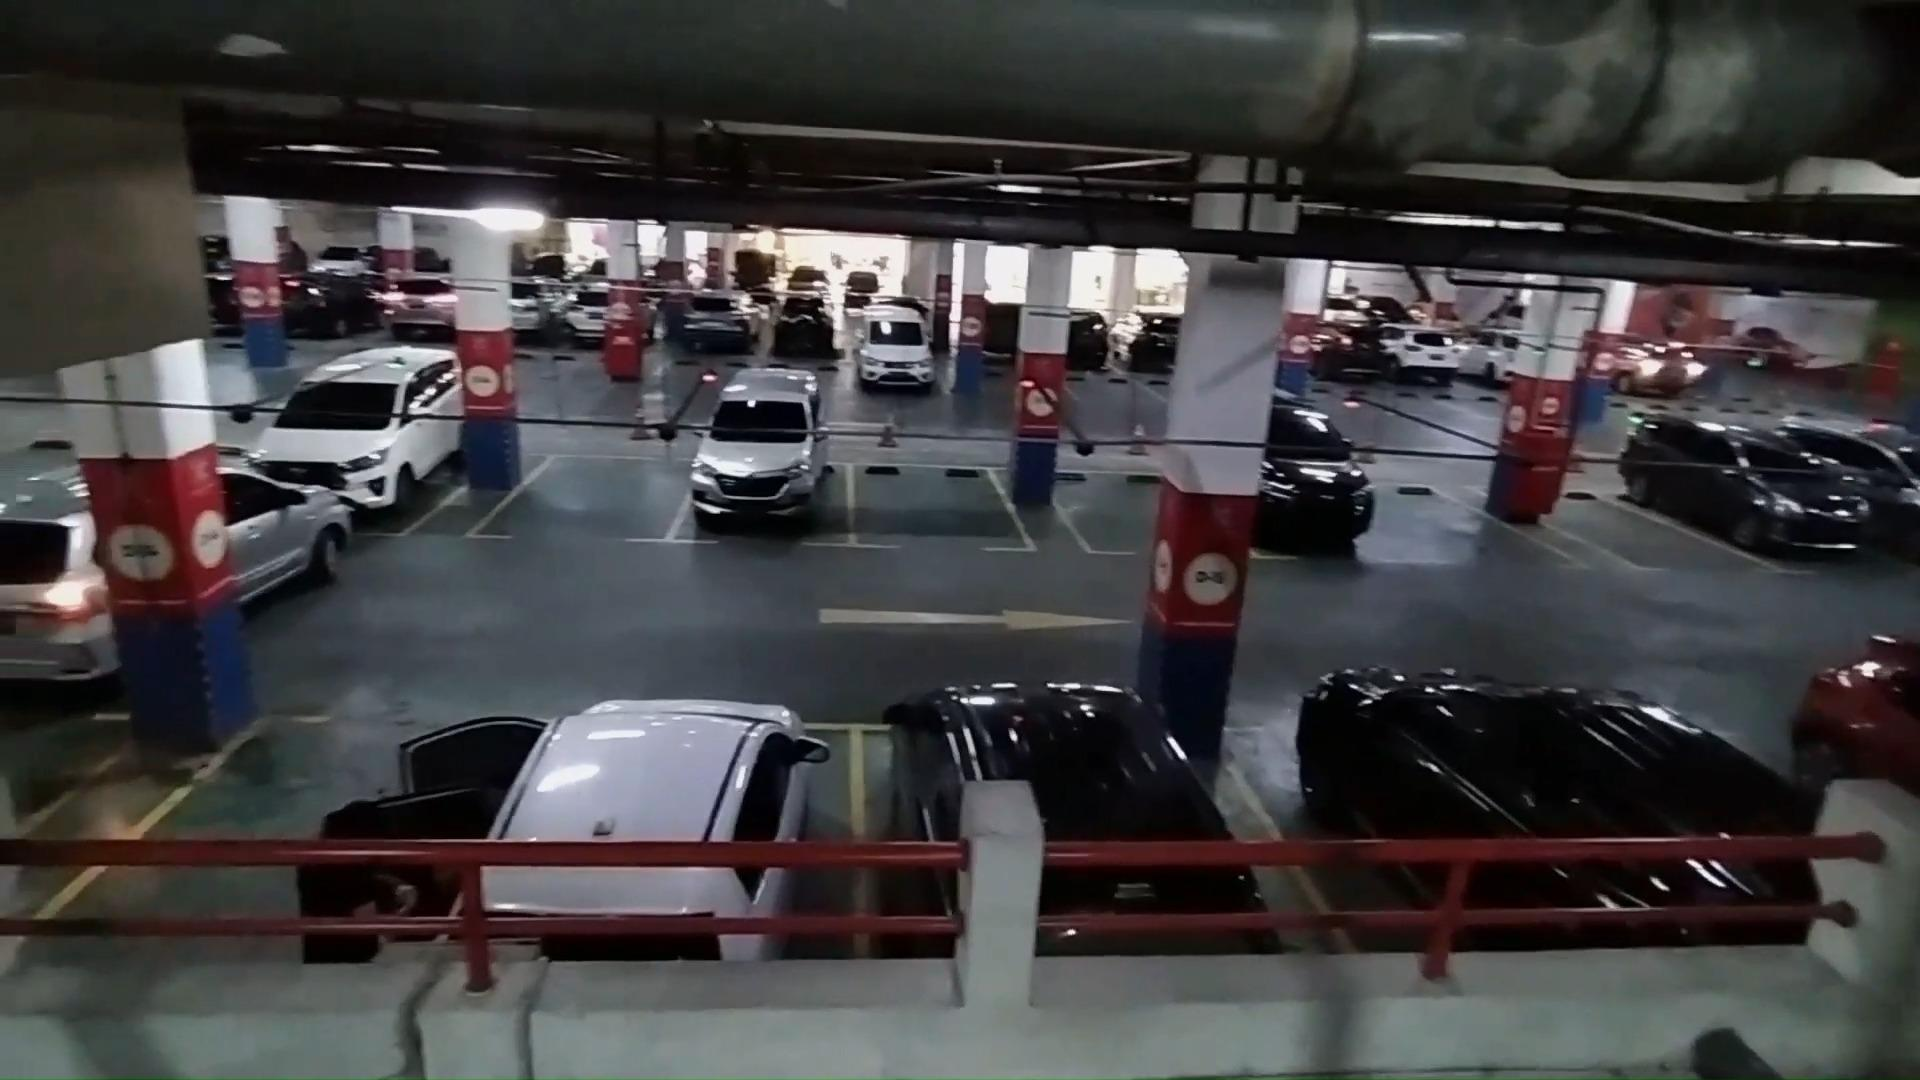empty: (97, 712, 469, 963), (846, 457, 1037, 555), (474, 453, 677, 544), (1050, 466, 1167, 558)
occupied: (470, 719, 863, 962), (853, 715, 1231, 959), (283, 374, 461, 539), (677, 400, 851, 549)
